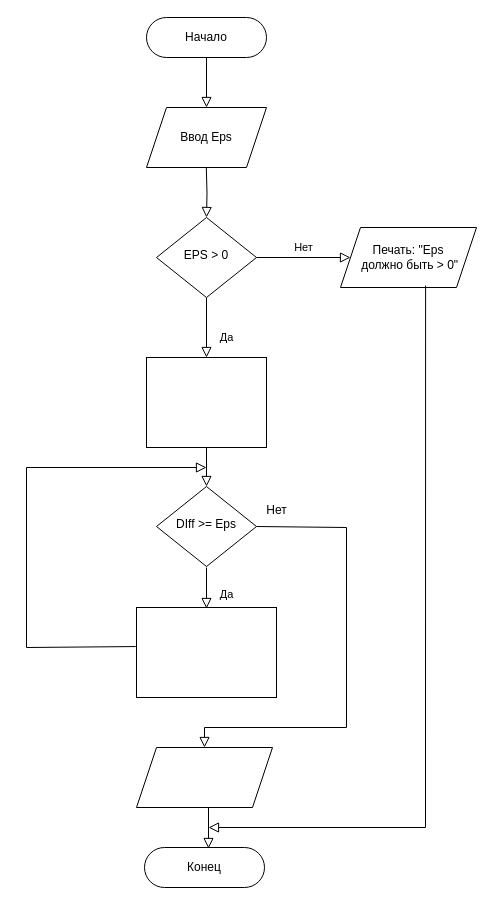
The diagram is 494 pixels wide and 905 high, and some of its shapes have lost their labels. The centre of each missing label's shape, as x and y in pixels:
N = N + 1 Slag = 1/((4N-1)(4N+1)) Sum = Sum + Slag Diff = |Tsum - Sum|: the point at 206,652
Tsum = 1/2 - pi/8 N = 0 Sum = 0 Diff = |Tsum - Sun| Slag = 0: the point at 206,402
Печать: N, Sum, Diff: the point at 204,777
